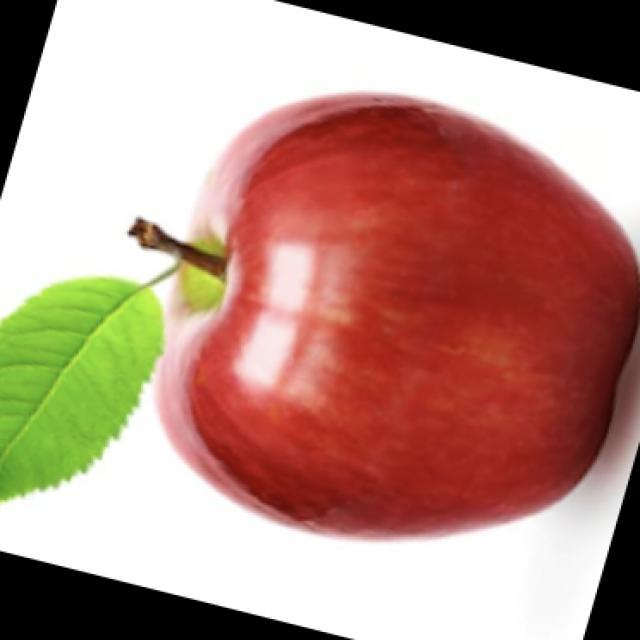Fresh Apple: (160, 98, 637, 567)
